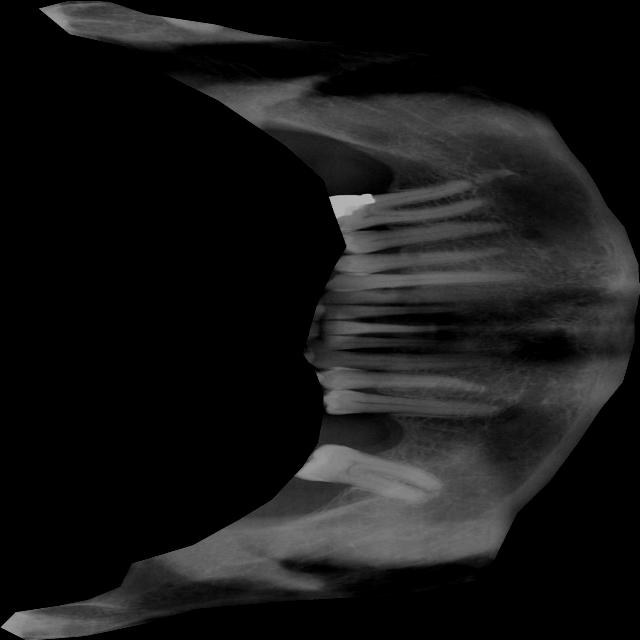mandibula: (0, 0, 640, 640)
